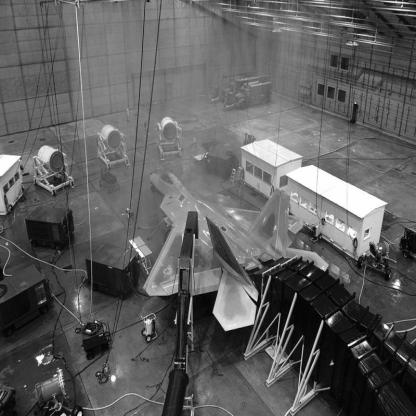F22: (151, 172, 330, 333)
